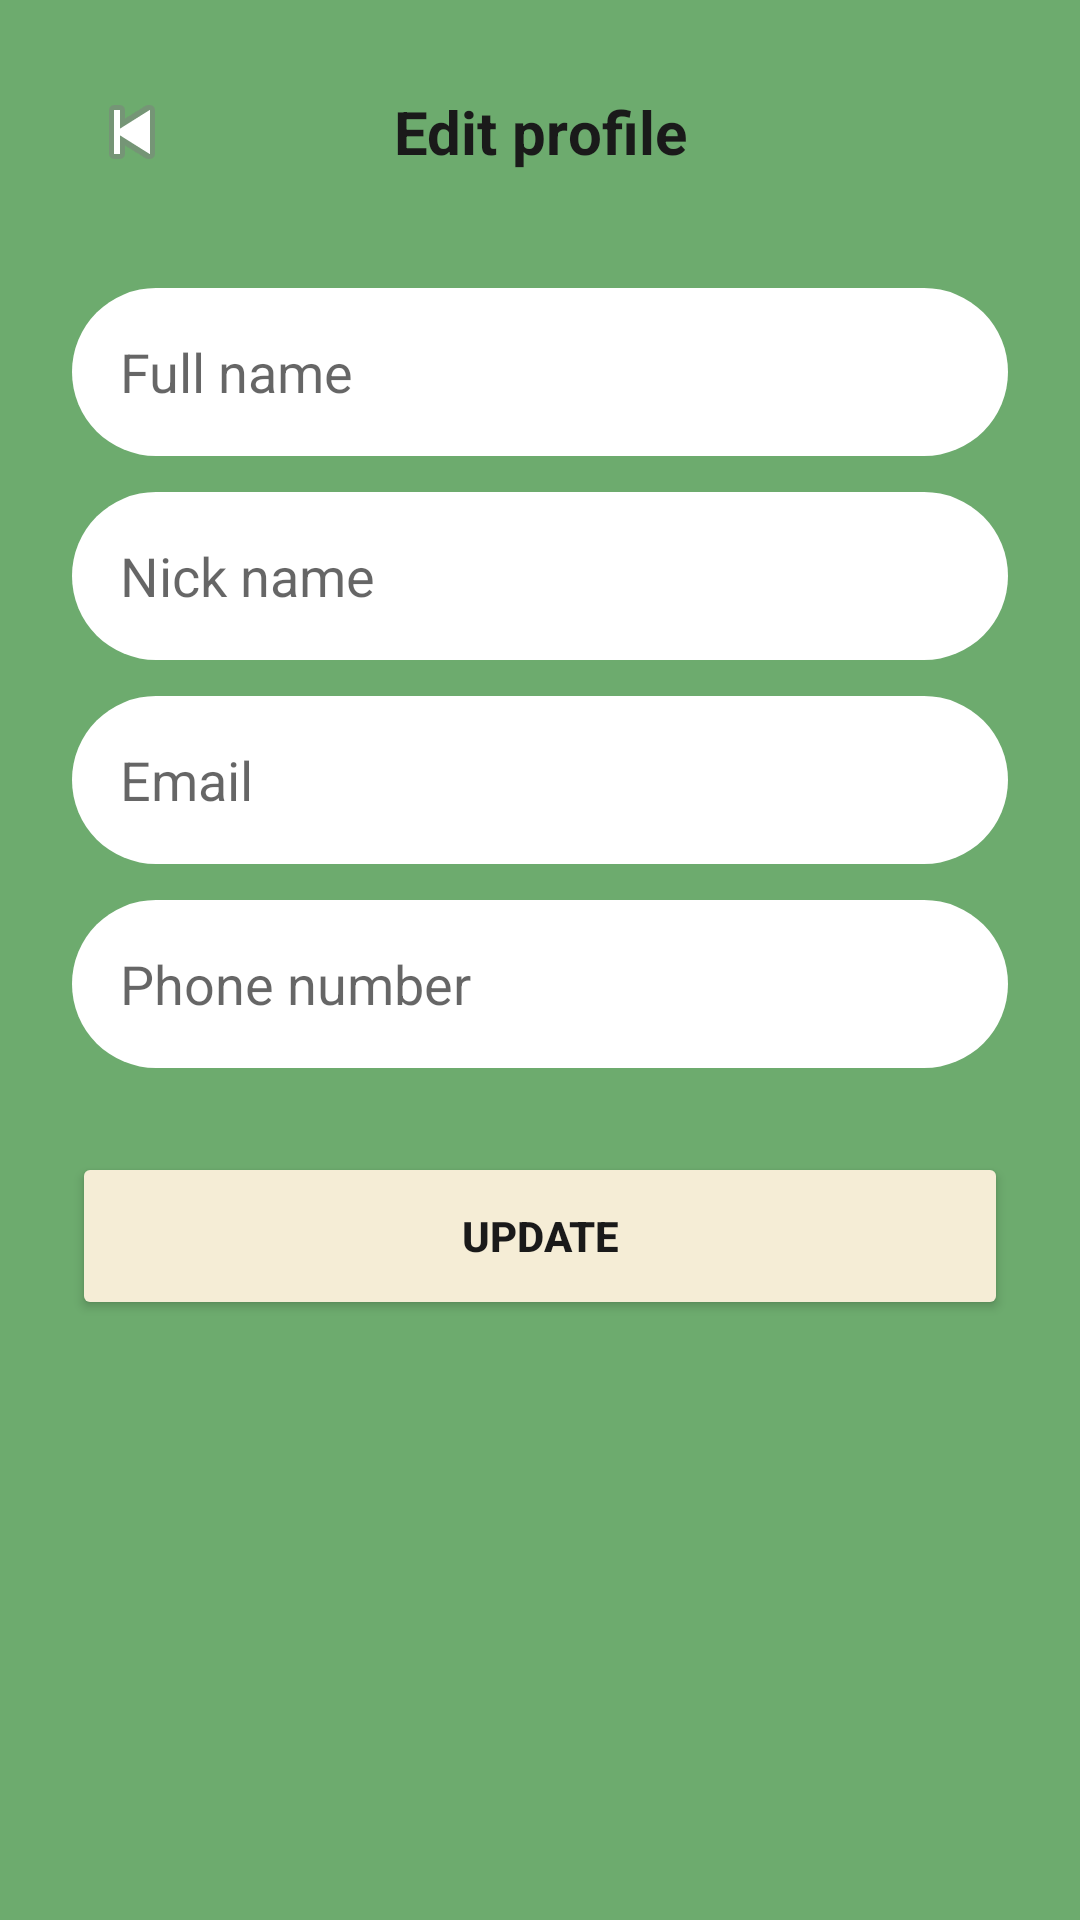

Icons on this 1080 × 1920 Android screen, each with the point to tap as [x,y]:
Back: [132,132]
